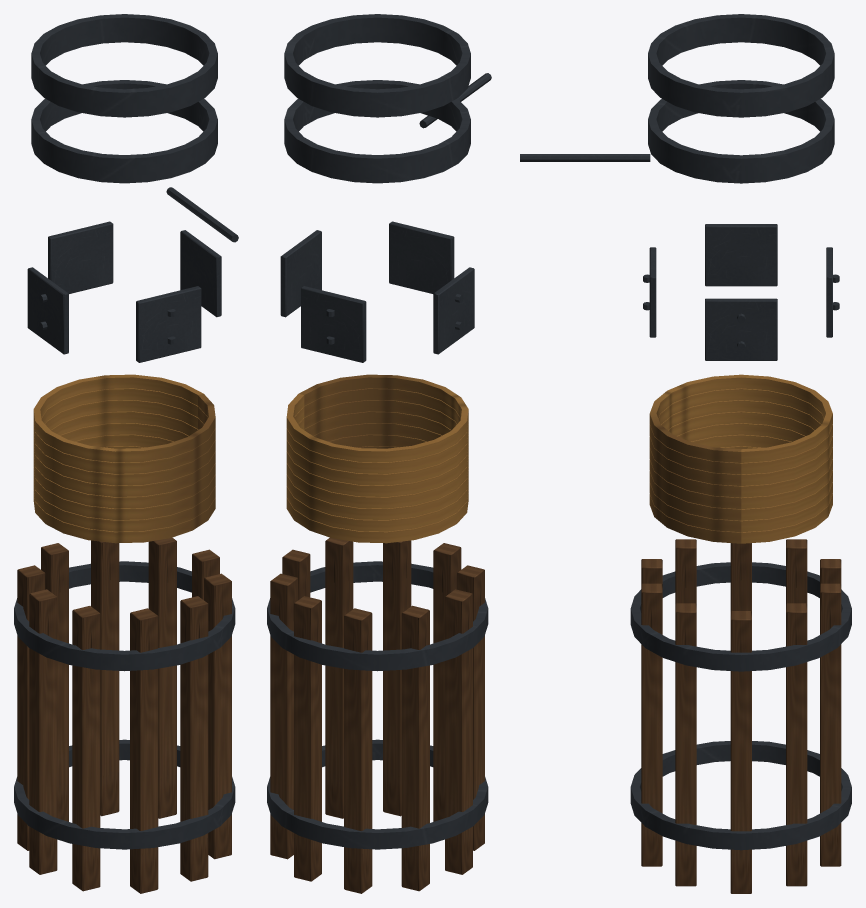
File: settlement_inn_undercroft_pile_dressing_28.gltf
3 renders of one model, left to right at view 1: azimuth 30°, elevation 25°; view 2: azimuth 150°, elevation 25°; view 3: azimuth 270°, elevation 25°, orthographic.
Parts seen in each view (by area): view 1: settlement_inn_undercroft_pile_dressing_28_LOD0; view 2: settlement_inn_undercroft_pile_dressing_28_LOD0; view 3: settlement_inn_undercroft_pile_dressing_28_LOD0.
Part boxes in pixels (left/top/right/bottom): settlement_inn_undercroft_pile_dressing_28_LOD0: left=14, top=14, right=238, bottom=893; settlement_inn_undercroft_pile_dressing_28_LOD0: left=267, top=14, right=491, bottom=893; settlement_inn_undercroft_pile_dressing_28_LOD0: left=520, top=14, right=851, bottom=893.
Size of what is drawn, in the model's own units: 0.73 by 2.9 by 1.1.
3 materials, 3 textured.
